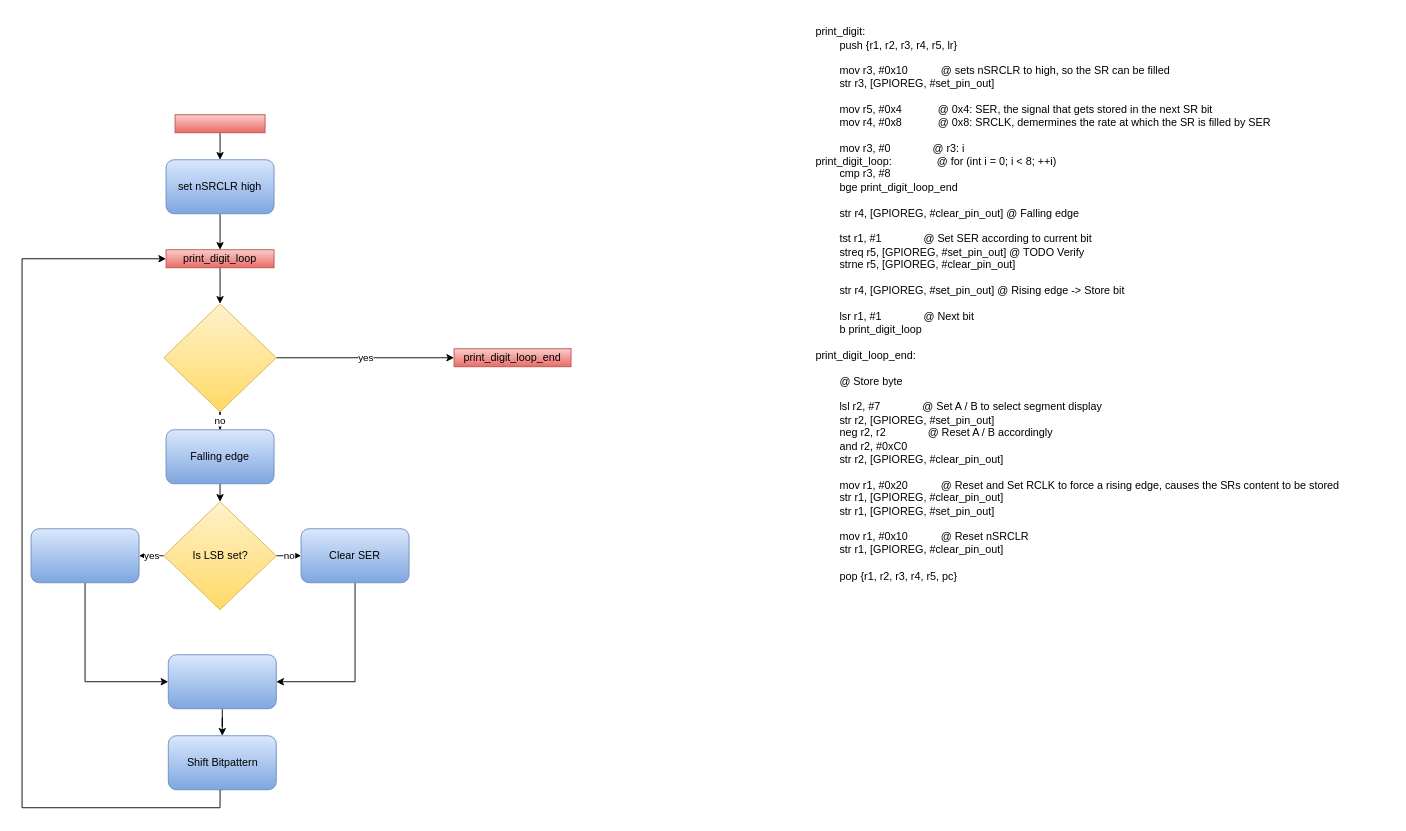
Image size: 1406x831. Some labels were removed from this diagram. The centre of each missing label's shape, as x and y in pixels:
"print_digit" goes at point 219,123.
"reached end of loop" goes at point 219,357.
"Rising edge" goes at point 221,681.
"Set SER" goes at point 84,555.
